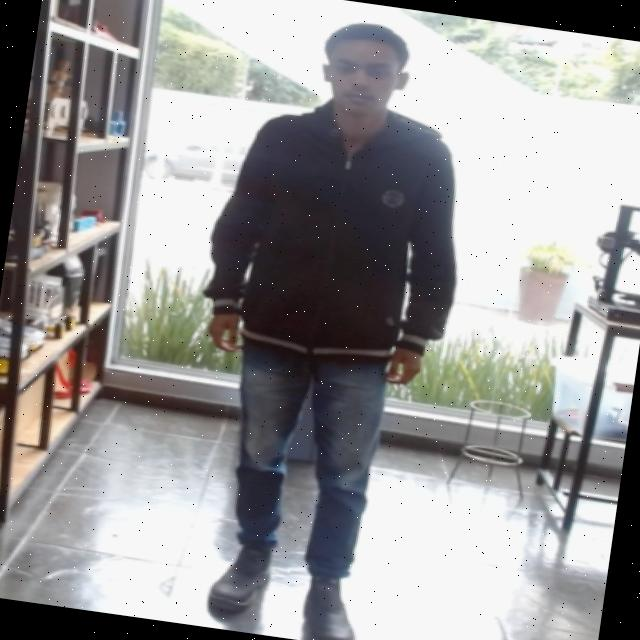BOTA: (192, 544, 287, 612), (300, 570, 356, 640)
SEM LUVA: (380, 351, 433, 390), (200, 317, 251, 356)
